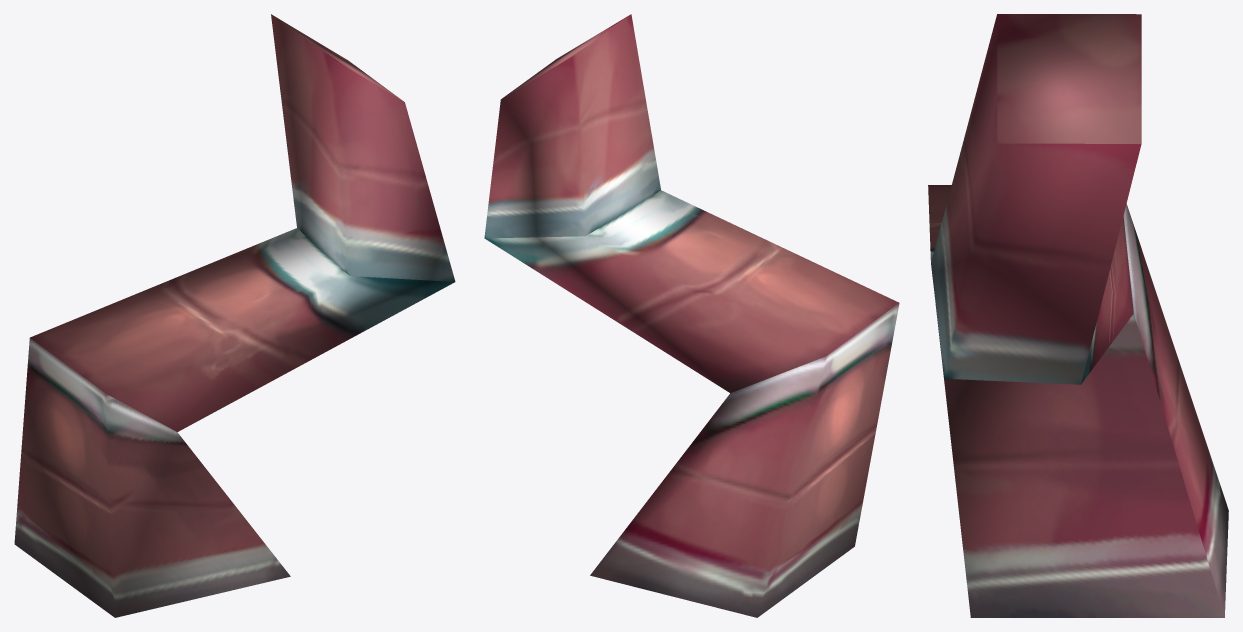
File: Tree03.fbx
3 renders of one model, left to right at view 1: azimuth 30°, elevation 25°; view 2: azimuth 150°, elevation 25°; view 3: azimuth 270°, elevation 25°, orthographic. The views are drawn at different scales.
Parts seen in each view (by area): view 1: Tree03; view 2: Tree03; view 3: Tree03.
Boxes of the visible parts, bbox=[...] form: Tree03: bbox=[14, 14, 455, 617]; Tree03: bbox=[484, 14, 899, 617]; Tree03: bbox=[928, 14, 1228, 617].
Size of the model in its own units: 2.3 by 3 by 1.29.
